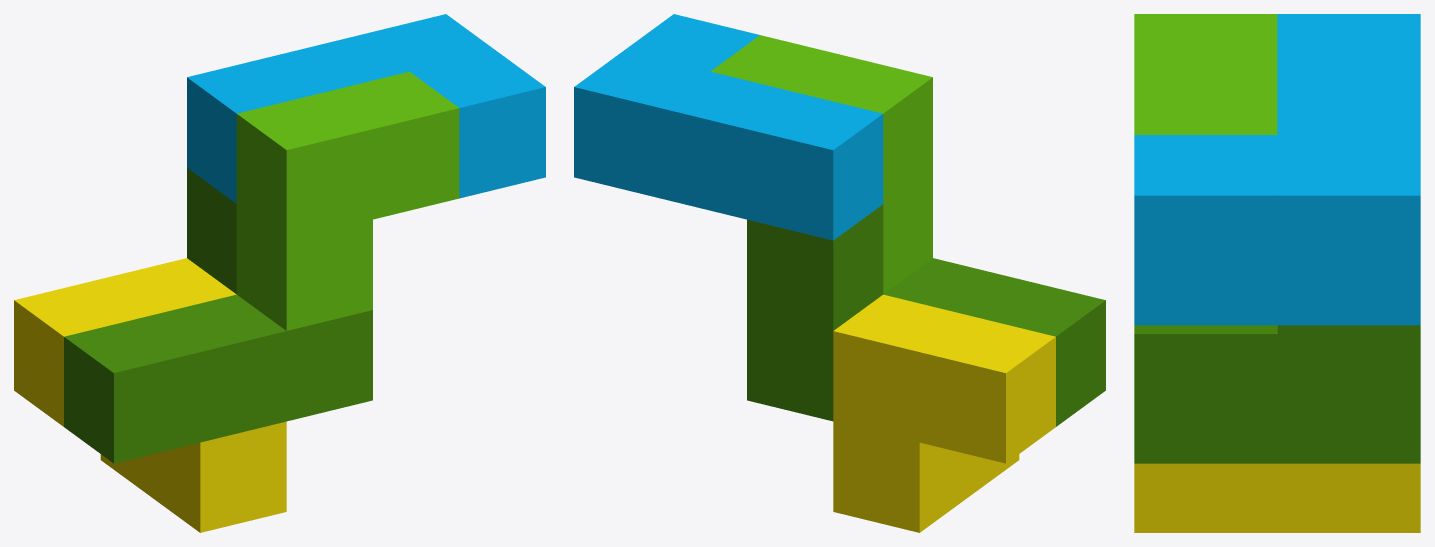
The picture shows the model from 3 angles, left to right: view 1: azimuth 30°, elevation 25°; view 2: azimuth 150°, elevation 25°; view 3: azimuth 270°, elevation 25°; orthographic projection. The views are drawn at different scales.
Parts seen in each view (by area): view 1: mergedBlocks(Clone); view 2: mergedBlocks(Clone); view 3: mergedBlocks(Clone).
Boxes of the visible parts, x1,y1,x2,y2 form: mergedBlocks(Clone): (14, 14, 545, 532); mergedBlocks(Clone): (574, 14, 1105, 532); mergedBlocks(Clone): (1134, 14, 1420, 532).
Size of the model in its own units: 5 by 4 by 2.
4 materials, 4 textured.
